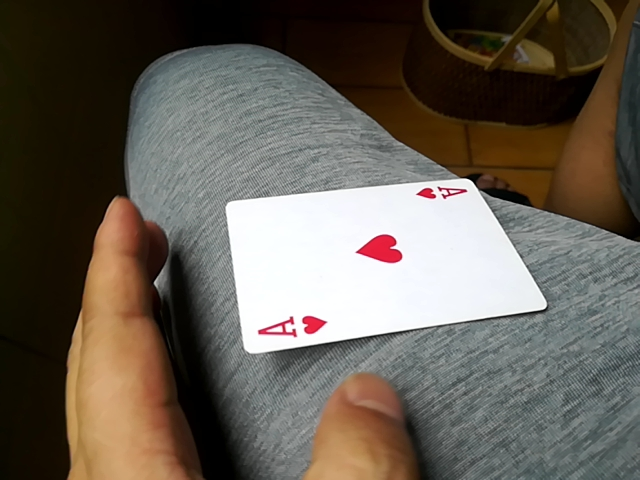hx a: (225, 177, 549, 351)
